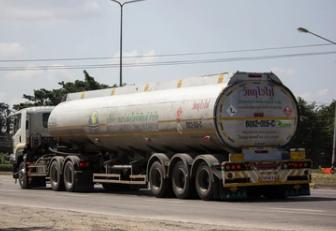vehicle: (6, 71, 311, 201)
